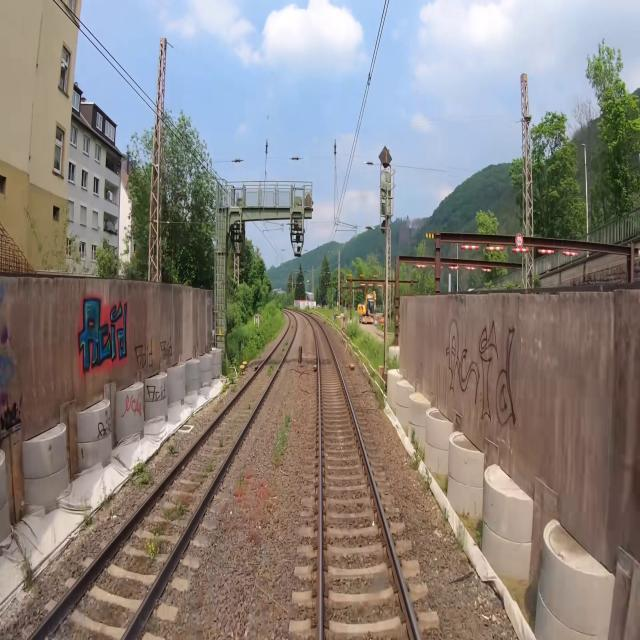Plant: (218, 468, 276, 544), (272, 412, 291, 466), (166, 493, 193, 521), (143, 538, 160, 560), (139, 471, 153, 489), (408, 458, 418, 473), (168, 444, 179, 454), (153, 525, 163, 535), (206, 462, 215, 472), (267, 365, 274, 375)
